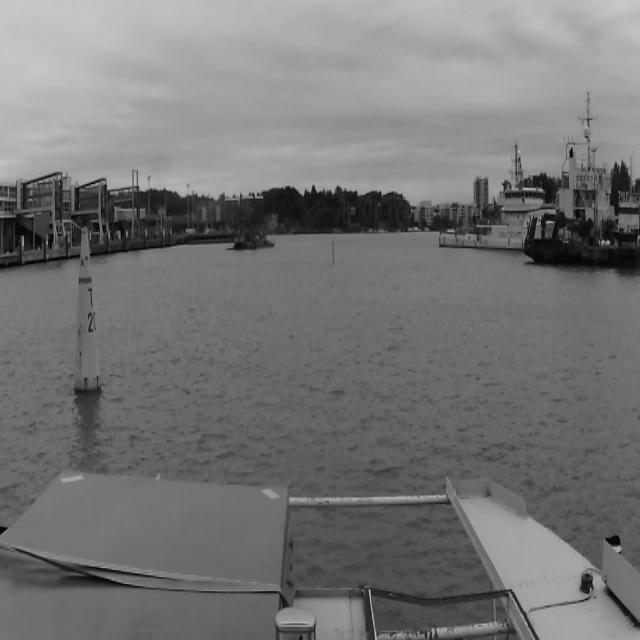buoy: (73, 229, 101, 387)
ship: (526, 84, 638, 268), (439, 142, 550, 245), (228, 233, 264, 248)
